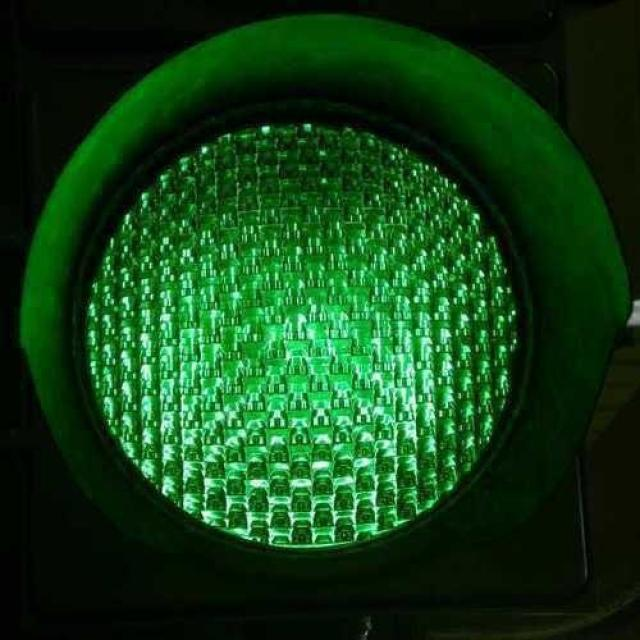Traffic Light -Green-: (7, 4, 633, 617)
